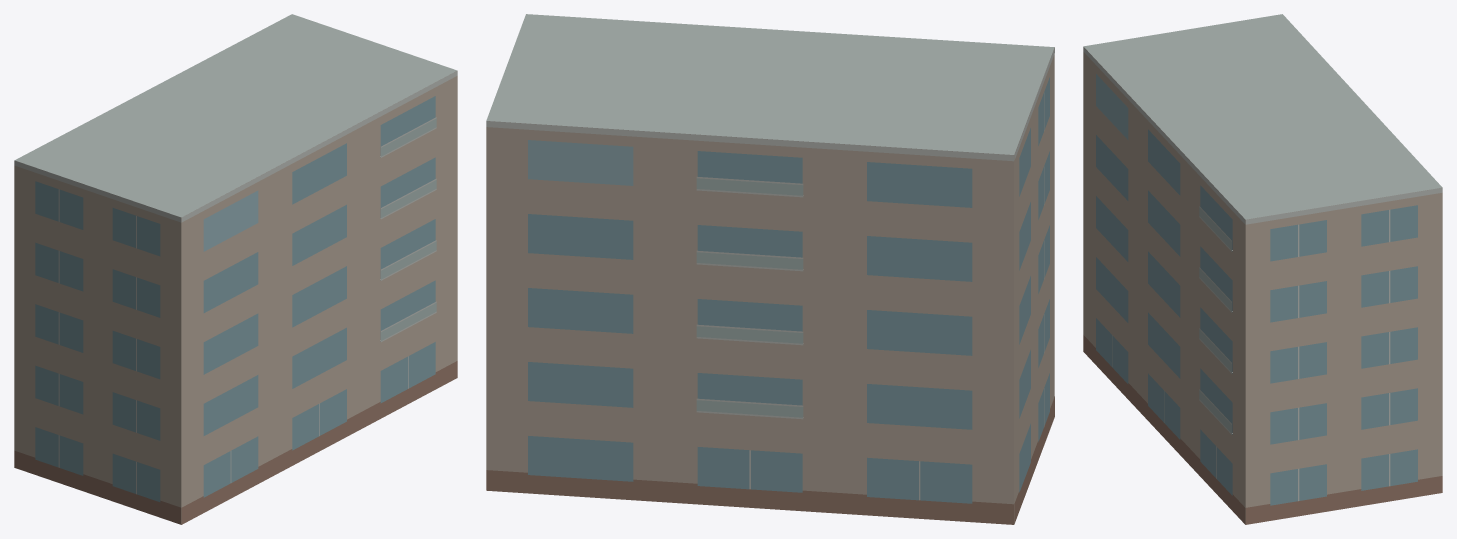
Rendered from survey-upis-32651483.glb.
3 views of the same model, side by side, from view 1: azimuth 30°, elevation 25°; view 2: azimuth 150°, elevation 25°; view 3: azimuth 270°, elevation 25° (orthographic). The views are drawn at different scales.
Visible parts, largest first — view 1: survey-upis-32651483.tmp; view 2: survey-upis-32651483.tmp; view 3: survey-upis-32651483.tmp.
Boxes of the visible parts, x1,y1,x2,y2 form: survey-upis-32651483.tmp: (14, 14, 457, 524); survey-upis-32651483.tmp: (486, 14, 1054, 524); survey-upis-32651483.tmp: (1083, 14, 1442, 524).
Bounding box in the file's own units: 21.11 × 14.6 × 15.59.
